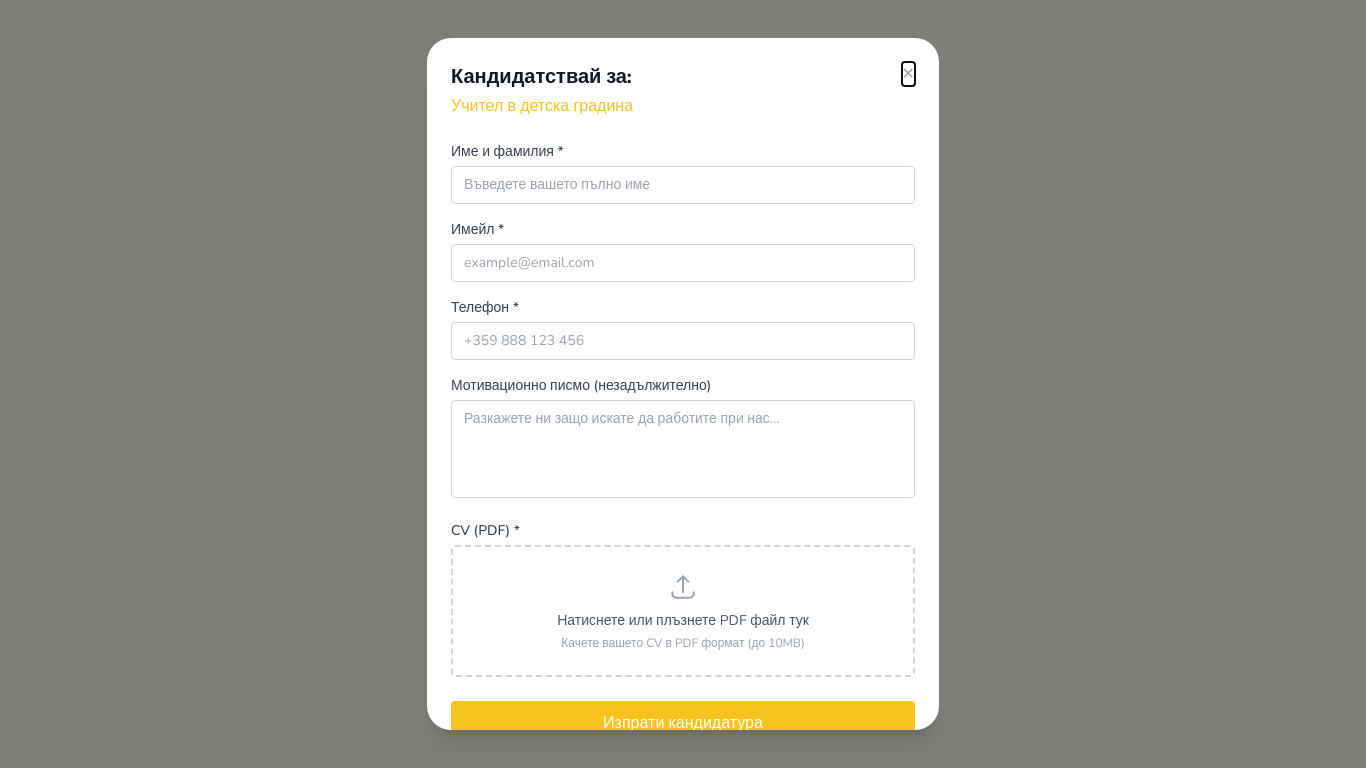
Test case: JobApplicationModal › shows phone validation error for invalid phone
The width and height of the screenshot is (1366, 768).
Type "123" into the field labelled "Телефон *" at coordinates (683, 341), box [451,322,915,360]
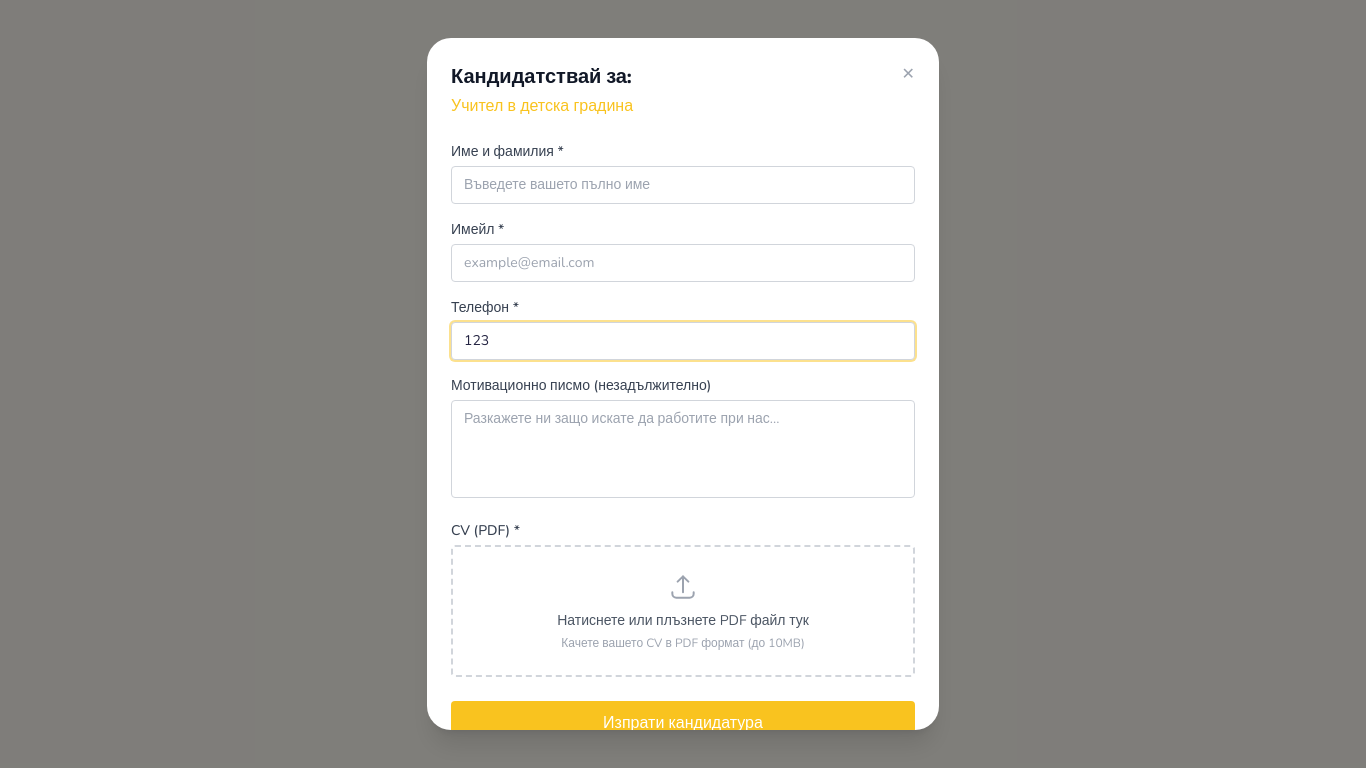
Click the button "Изпрати кандидатура" at coordinates (683, 723), box [451,701,915,745]
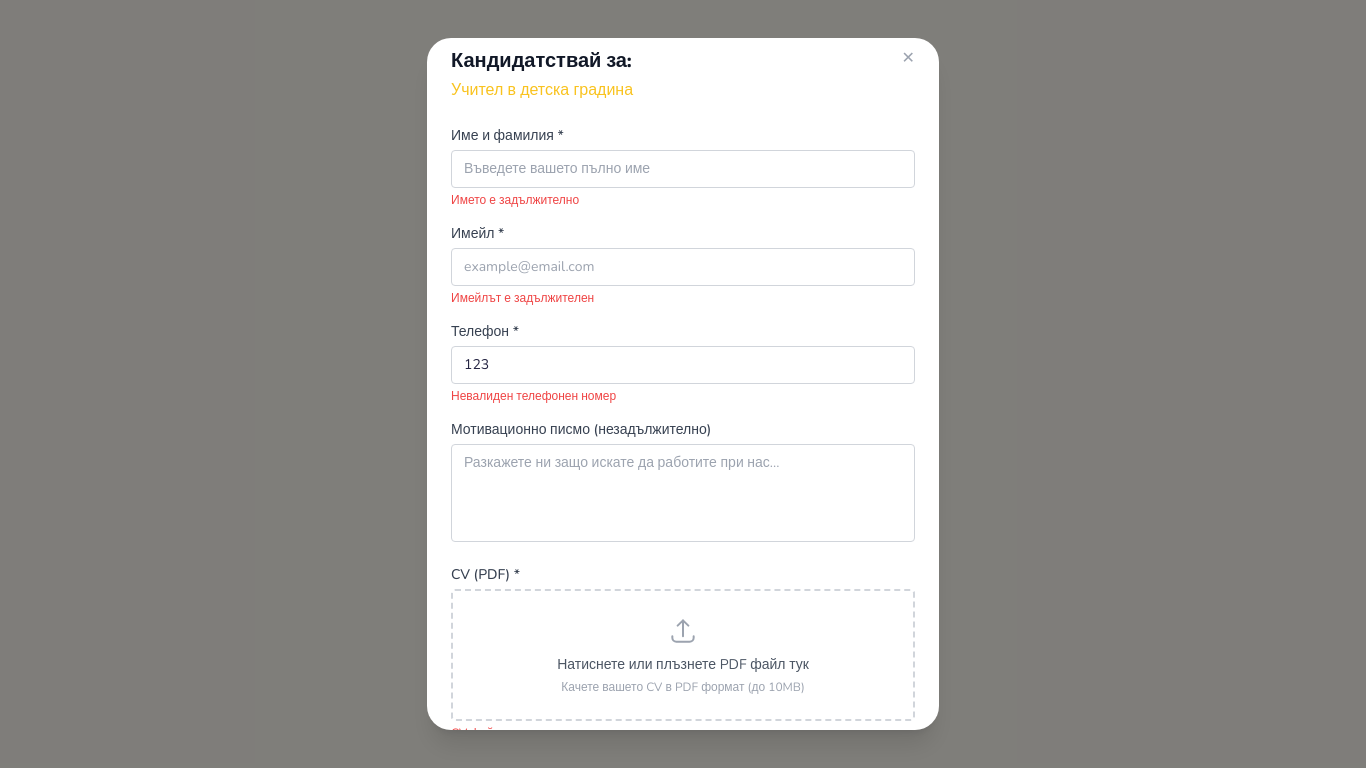
Now the text "Невалиден телефонен номер" is shown, box [451,388,616,404]
